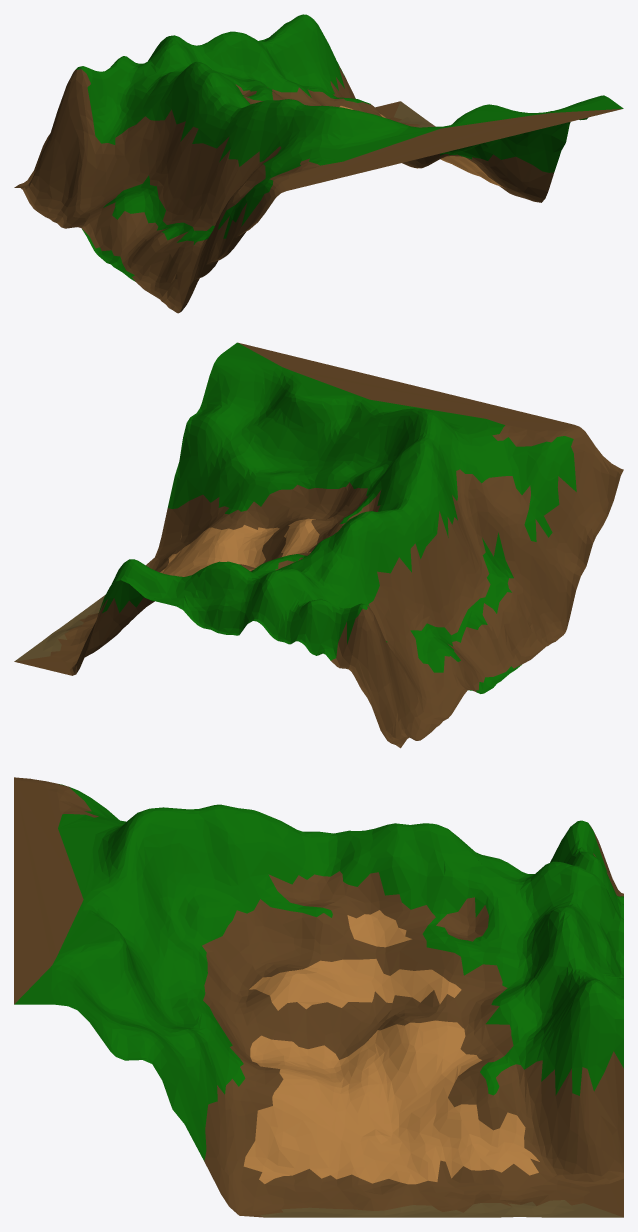
Rendered from world4.fbx.
3 renders of one model, top to bottom at view 1: azimuth 30°, elevation 25°; view 2: azimuth 150°, elevation 25°; view 3: azimuth 270°, elevation 25°, orthographic. The views are drawn at different scales.
Parts seen in each view (by area): view 1: terraa; view 2: terraa; view 3: terraa.
Boxes of the visible parts, <box> form: terraa: <box>14,14,623,313</box>; terraa: <box>14,342,623,748</box>; terraa: <box>14,777,623,1217</box>.
Bounding box in the file's own units: 20001 × 8891 × 20004.
